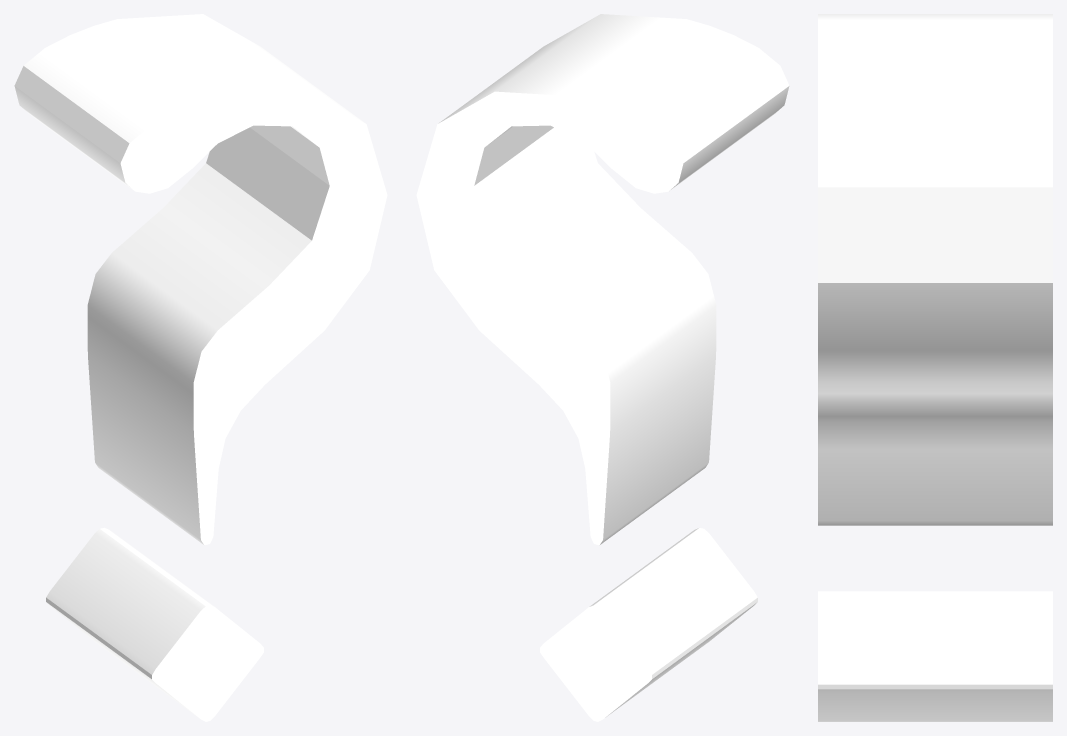
The model's file is e6b3c558-26f1-4dbe-af11-e73210a2cf43.glb.
3 views of the same model, side by side, from view 1: azimuth 30°, elevation 25°; view 2: azimuth 150°, elevation 25°; view 3: azimuth 270°, elevation 25° (orthographic). The views are drawn at different scales.
Parts seen in each view (by area): view 1: ?_Soul_White; view 2: ?_Soul_White; view 3: ?_Soul_White.
Part boxes in pixels (x1=…): ?_Soul_White: x1=14, y1=14, x2=387, y2=721; ?_Soul_White: x1=416, y1=14, x2=789, y2=721; ?_Soul_White: x1=818, y1=14, x2=1052, y2=721.
Size of what is drawn, in the model's own units: 0.0655 by 0.1455 by 0.045.
2 materials, 2 textured.
